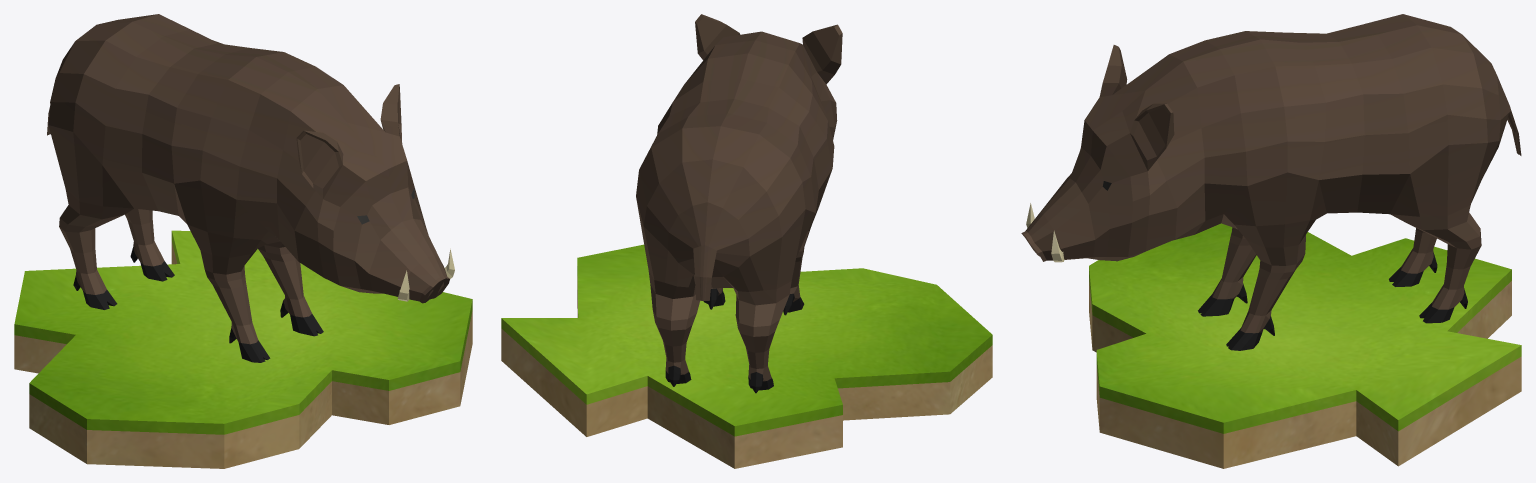
File: result.glb
3 views of the same model, side by side, from view 1: azimuth 30°, elevation 25°; view 2: azimuth 150°, elevation 25°; view 3: azimuth 270°, elevation 25° (orthographic). The views are drawn at different scales.
Parts seen in each view (by area): view 1: Cube.001; view 2: Cube.001; view 3: Cube.001.
Boxes of the visible parts, x1,y1,x2,y2 form: Cube.001: [14, 14, 472, 468]; Cube.001: [501, 14, 992, 468]; Cube.001: [1021, 14, 1521, 468].
Size of the model in its own units: 8.97 by 6.61 by 9.07.
1 material, 1 textured.
